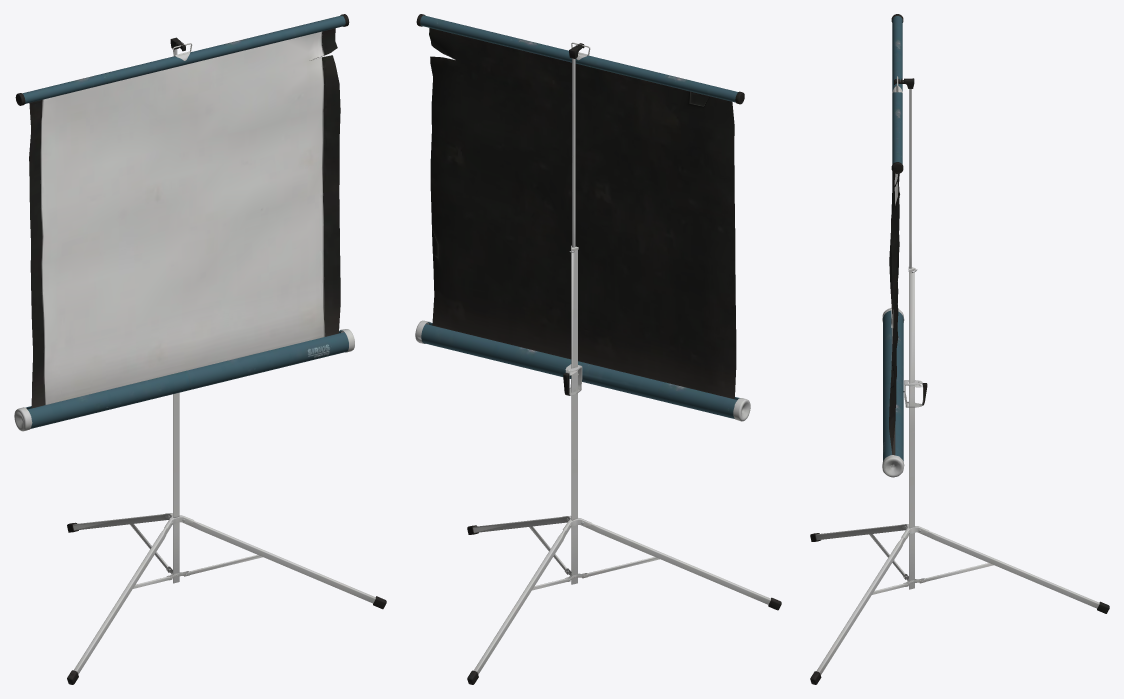
Rendered from projector_screen.glb.
The picture shows the model from 3 angles, left to right: view 1: azimuth 30°, elevation 25°; view 2: azimuth 150°, elevation 25°; view 3: azimuth 270°, elevation 25°; orthographic projection. The views are drawn at different scales.
Parts seen in each view (by area): view 1: projector_screen; view 2: projector_screen; view 3: projector_screen.
Part boxes in pixels (left/top/right/bottom): projector_screen: left=14, top=14, right=386, bottom=684; projector_screen: left=415, top=14, right=781, bottom=684; projector_screen: left=810, top=14, right=1109, bottom=684.
Size of the model in its own units: 1.09 by 1.8 by 0.9159.
Materials: 2 (2 with a texture image).
